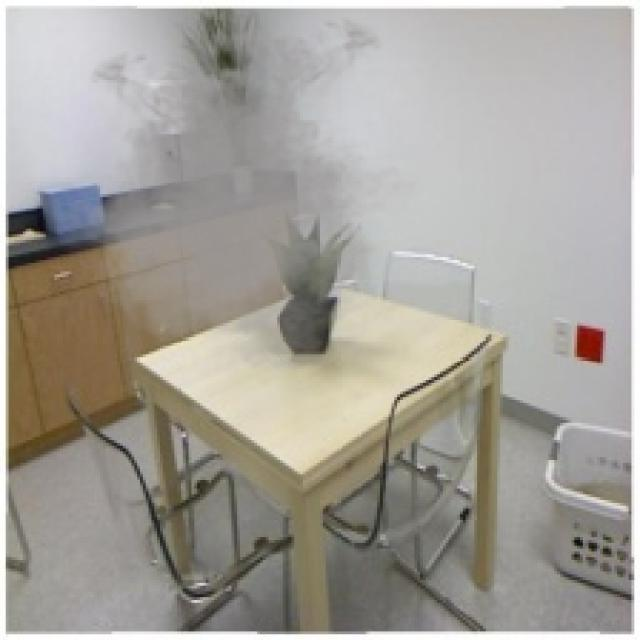Smoke: (28, 6, 443, 380)
